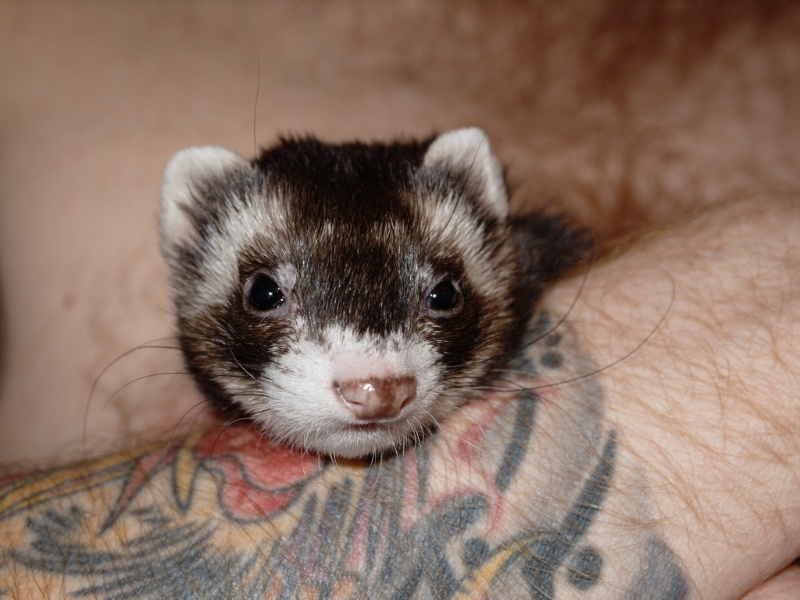minkish: (156, 121, 577, 469)
